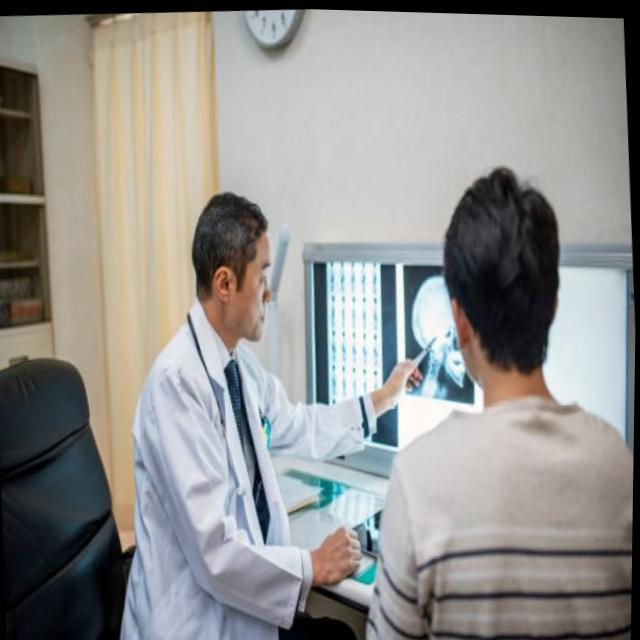no helmet: (414, 143, 579, 416)
